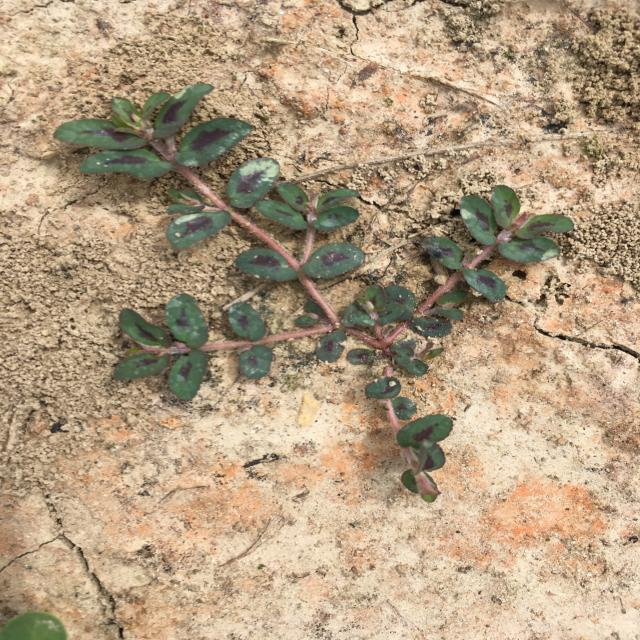SpottedSpurge: (52, 83, 576, 503)
